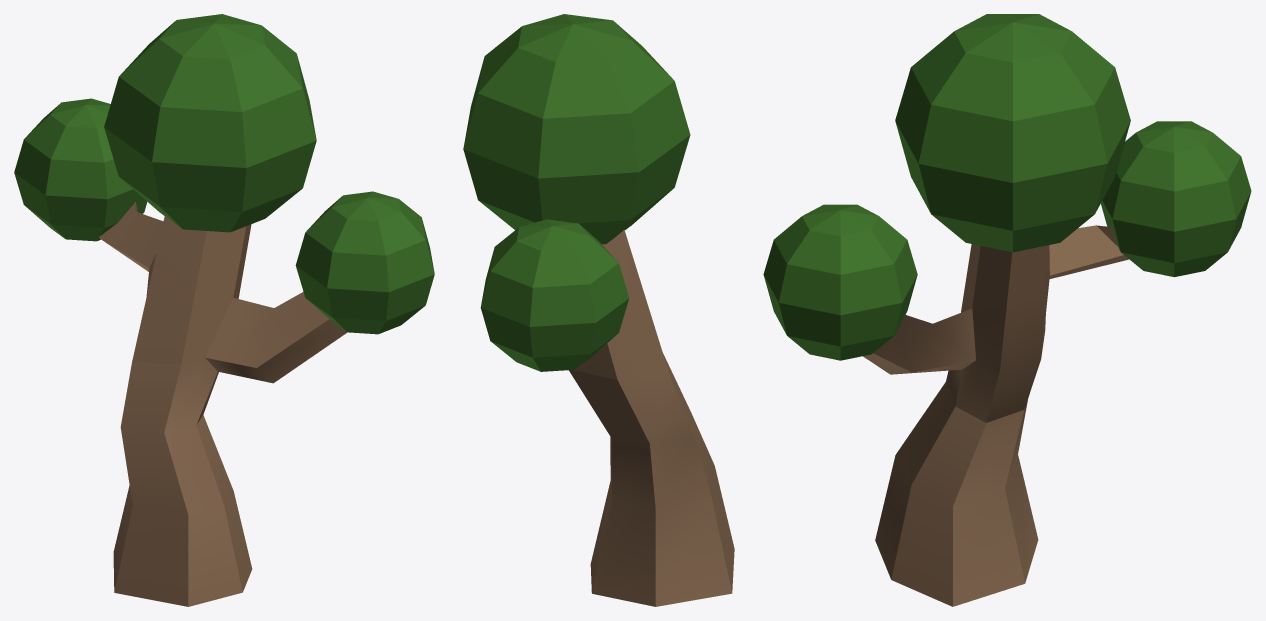
The model's file is Arbol_2.fbx.
The picture shows the model from 3 angles, left to right: view 1: azimuth 30°, elevation 25°; view 2: azimuth 150°, elevation 25°; view 3: azimuth 270°, elevation 25°; orthographic projection. The views are drawn at different scales.
Visible parts, largest first — view 1: pCylinder2, pSphere4, pSphere5, pSphere6; view 2: pSphere4, pCylinder2, pSphere6; view 3: pCylinder2, pSphere4, pSphere5, pSphere6.
Boxes of the visible parts, <box> form: pCylinder2: <box>99,202,347,606</box>; pSphere4: <box>104,14,316,232</box>; pSphere5: <box>295,191,434,334</box>; pSphere6: <box>14,98,147,241</box>; pSphere4: <box>463,14,690,244</box>; pCylinder2: <box>569,230,734,606</box>; pSphere6: <box>480,219,629,371</box>; pCylinder2: <box>863,225,1128,606</box>; pSphere4: <box>895,14,1130,252</box>; pSphere5: <box>763,204,917,360</box>; pSphere6: <box>1101,121,1251,277</box>.
Size of the model in its own units: 6.65 by 12.81 by 9.78.
